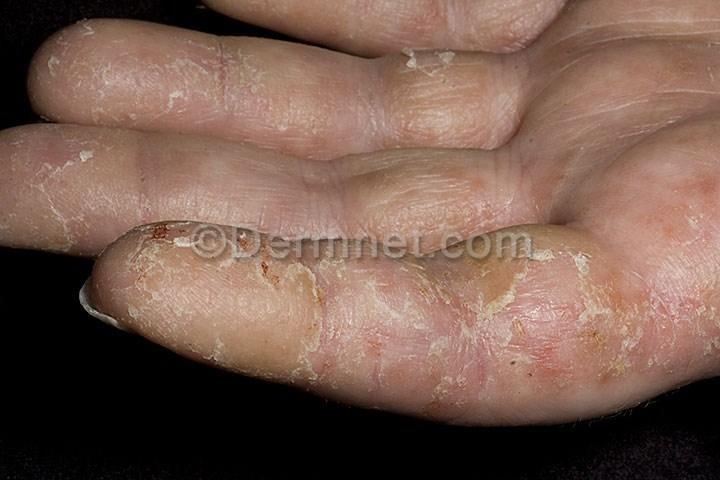Eczema: (432, 272, 641, 402), (125, 216, 208, 288)
